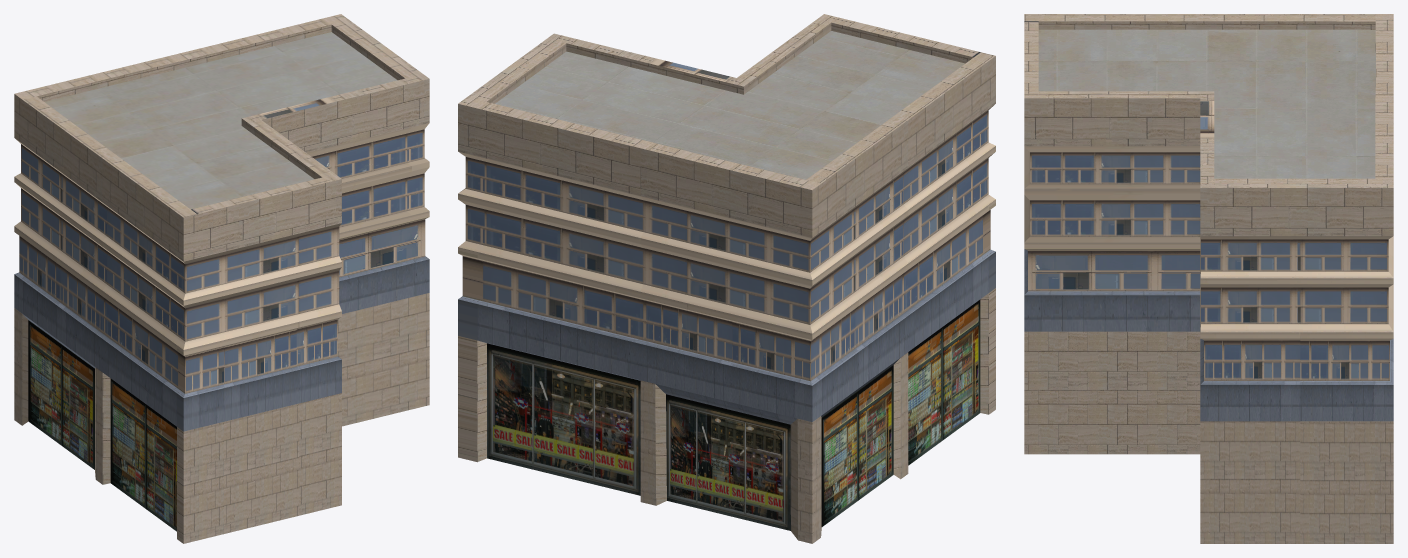
File: Pizza_Delivery house20.fbx
3 views of the same model, side by side, from view 1: azimuth 30°, elevation 25°; view 2: azimuth 150°, elevation 25°; view 3: azimuth 270°, elevation 25° (orthographic). The views are drawn at different scales.
Visible parts, largest first — view 1: Pizza_Delivery:Pizza_Delivery:house20; view 2: Pizza_Delivery:Pizza_Delivery:house20; view 3: Pizza_Delivery:Pizza_Delivery:house20.
Part boxes in pixels (x1=…): Pizza_Delivery:Pizza_Delivery:house20: x1=14, y1=14, x2=429, y2=543; Pizza_Delivery:Pizza_Delivery:house20: x1=458, y1=14, x2=995, y2=543; Pizza_Delivery:Pizza_Delivery:house20: x1=1024, y1=14, x2=1393, y2=543.
Size of the model in its own units: 14.85 by 14.17 by 13.32.
